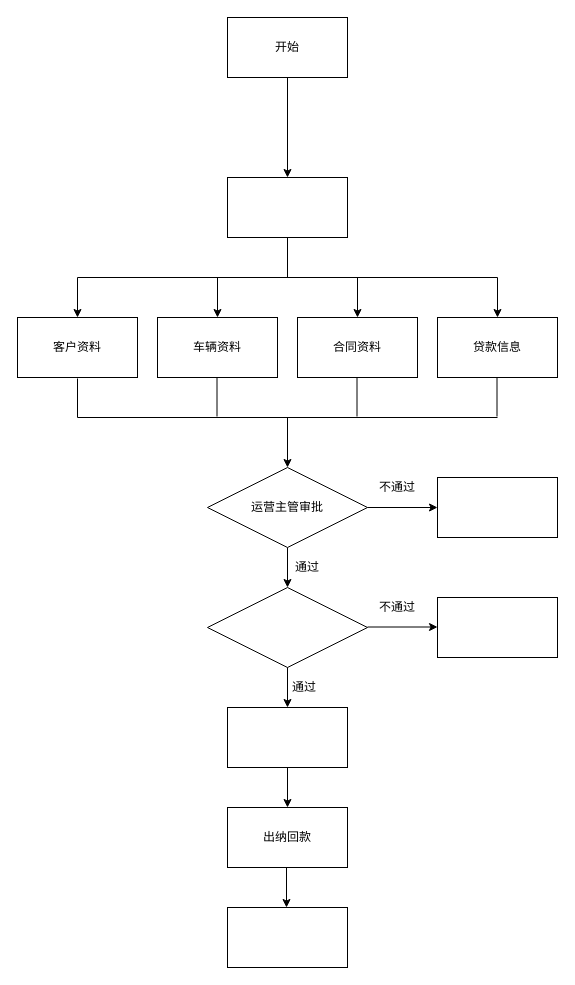
Image size: 575x985. Some labels were removed from this diagram. Here are the shapes that lost their labels. From the top down, the box of each, then its label:
(226, 176, 348, 238): 资料收集
(206, 586, 368, 668): 会计校对
(226, 706, 348, 768): 出纳打款
(226, 906, 348, 968): 客服团队操作
